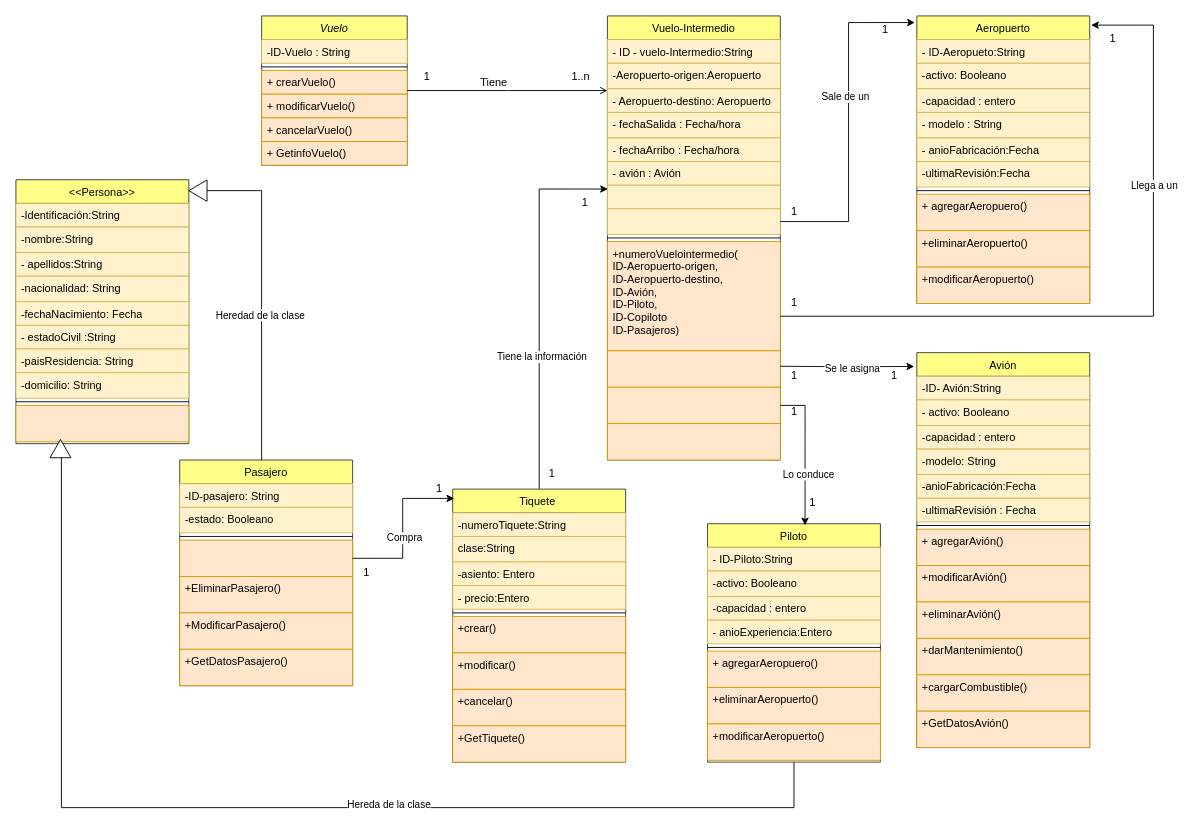
The diagram is 1193 pixels wide and 831 high, and some of its shapes have lost their labels. The shapes that lost their labels are listed below. From the top down, each one's box as (x1, y1, x2, y2) in pixels, then its label:
(607, 184, 780, 209): - piloto : Piloto
(607, 208, 780, 234): - pasajero : Pasajero
(607, 350, 780, 387): +cancelarVuelointermedio( ID-Vuelo-Intermedio)
(607, 386, 780, 424): +modificarrVuelointermedio( ID-Vuelo-Intermedio)
(607, 423, 780, 460): + GetDatosDelVueloIntermedio()
(179, 539, 353, 576): +crearPasajero()
